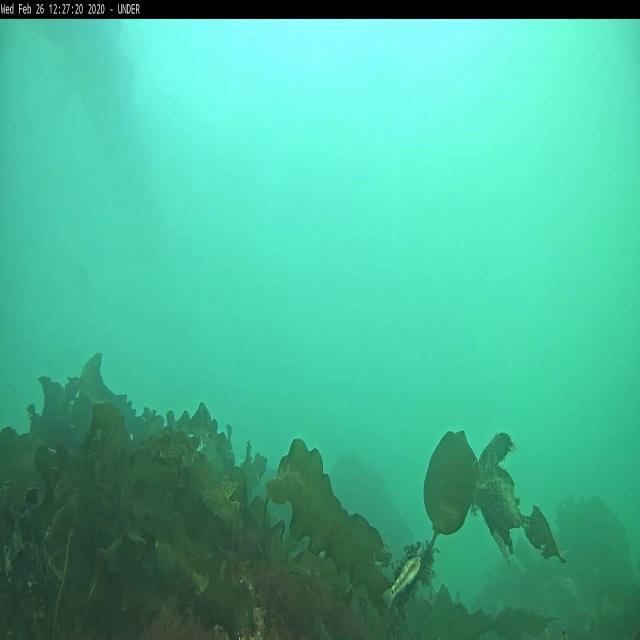fish: (385, 556, 420, 604)
